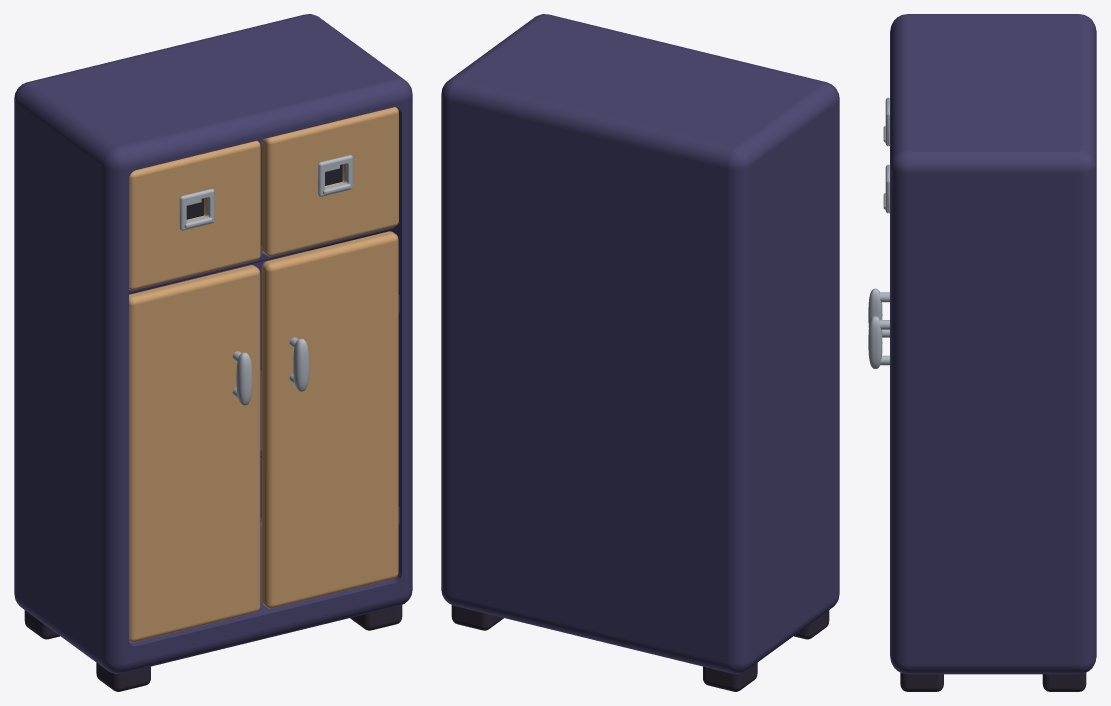
Rendered from filing_cabinet.glb.
The picture shows the model from 3 angles, left to right: view 1: azimuth 30°, elevation 25°; view 2: azimuth 150°, elevation 25°; view 3: azimuth 270°, elevation 25°; orthographic projection.
Parts seen in each view (by area): view 1: Rounded outer cabinet shell_export, Right maple cupboard door_export, Left maple cupboard door_export, Right upper drawer_export, Left upper drawer_export, Short sturdy cabinet foot_export, Horizontal drawer support_export, Short sturdy cabinet foot.002_export, Rounded vertical door handle_export, Rounded vertical door handle.001_export, Square silver label pull_export, Square silver label pull.001_export; view 2: Rounded outer cabinet shell_export, Short sturdy cabinet foot.001_export, Short sturdy cabinet foot.003_export; view 3: Rounded outer cabinet shell_export, Short sturdy cabinet foot.003_export, Short sturdy cabinet foot.002_export, Rounded vertical door handle.001_export, Rounded vertical door handle_export.
Part boxes in pixels (bbox=[...]): Rounded outer cabinet shell_export: bbox=[14, 14, 412, 673]; Right maple cupboard door_export: bbox=[262, 231, 398, 608]; Left maple cupboard door_export: bbox=[129, 265, 260, 642]; Right upper drawer_export: bbox=[261, 107, 398, 256]; Left upper drawer_export: bbox=[129, 140, 260, 290]; Short sturdy cabinet foot_export: bbox=[96, 662, 150, 691]; Horizontal drawer support_export: bbox=[129, 227, 393, 293]; Short sturdy cabinet foot.002_export: bbox=[350, 605, 402, 630]; Rounded vertical door handle_export: bbox=[236, 352, 252, 405]; Rounded vertical door handle.001_export: bbox=[293, 338, 309, 391]; Square silver label pull_export: bbox=[179, 188, 214, 230]; Square silver label pull.001_export: bbox=[318, 155, 352, 196]; Rounded outer cabinet shell_export: bbox=[441, 14, 839, 673]; Short sturdy cabinet foot.001_export: bbox=[703, 662, 757, 691]; Short sturdy cabinet foot.003_export: bbox=[451, 605, 503, 630]; Rounded outer cabinet shell_export: bbox=[890, 14, 1096, 674]; Short sturdy cabinet foot.003_export: bbox=[1042, 673, 1086, 691]; Short sturdy cabinet foot.002_export: bbox=[900, 672, 943, 691]; Rounded vertical door handle.001_export: bbox=[868, 316, 882, 368]; Rounded vertical door handle_export: bbox=[868, 288, 882, 327].
Size of the model in its own units: 0.65 by 1.1 by 0.42.
